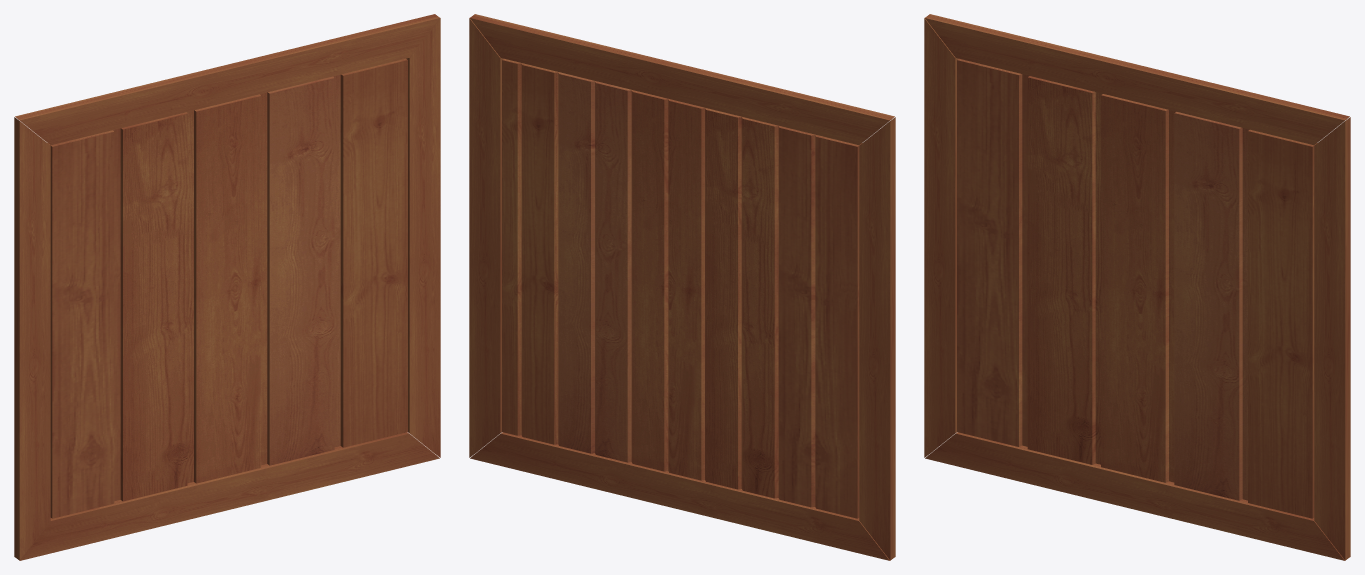
The picture shows the model from 3 angles, left to right: view 1: azimuth 30°, elevation 25°; view 2: azimuth 150°, elevation 25°; view 3: azimuth 330°, elevation 25°; orthographic projection.
Visible parts, largest first — view 1: plank003, plank005, plank004, plank002, plank006, trim_left, trim_top, trim_bottom, trim_right; view 2: plank002, plank005, plank004, plank003, plank006, trim_left, trim_top, trim_bottom, trim_right; view 3: plank003, plank004, plank005, plank002, plank006, trim_right, trim_top, trim_bottom, trim_left.
Part boxes in pixels (<box>): plank003: <box>120,110,193,501</box>; plank005: <box>267,74,340,465</box>; plank004: <box>194,92,267,483</box>; plank002: <box>47,128,120,518</box>; plank006: <box>340,58,407,447</box>; trim_left: <box>14,117,50,560</box>; trim_top: <box>15,14,439,145</box>; trim_bottom: <box>20,432,439,560</box>; trim_right: <box>406,18,440,457</box>; plank002: <box>778,126,862,518</box>; plank005: <box>558,72,631,462</box>; plank004: <box>631,90,704,480</box>; plank003: <box>705,108,778,498</box>; plank006: <box>502,58,558,444</box>; trim_left: <box>859,117,895,560</box>; trim_top: <box>470,14,894,145</box>; trim_bottom: <box>470,432,889,560</box>; trim_right: <box>469,18,503,457</box>; plank003: <box>1027,76,1102,464</box>; plank004: <box>1101,94,1175,482</box>; plank005: <box>1174,112,1249,500</box>; plank002: <box>957,58,1028,446</box>; plank006: <box>1248,129,1317,518</box>; trim_right: <box>1314,117,1350,560</box>; trim_top: <box>925,14,1349,145</box>; trim_bottom: <box>925,432,1344,560</box>; trim_left: <box>924,18,958,457</box>.
Bounding box in the file's own units: 34 × 34 × 0.75.
Materials: 8 (8 with a texture image).
